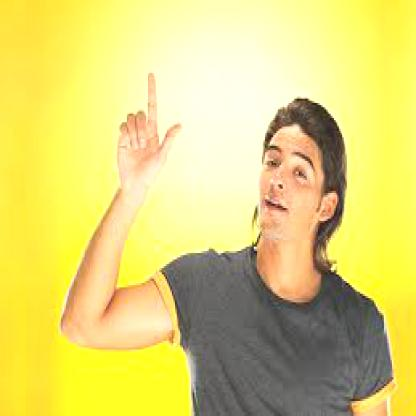Up: (103, 62, 189, 194)
